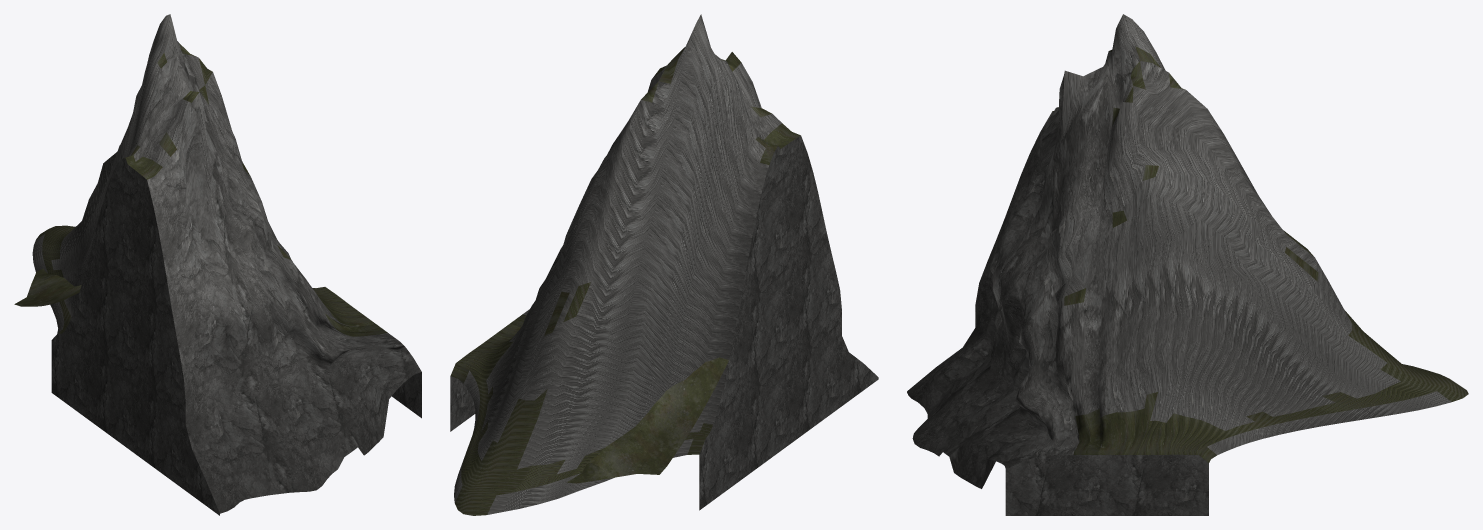
The model's file is seacliff_endcap_right_h5_b_v5_summer.glb.
The picture shows the model from 3 angles, left to right: view 1: azimuth 30°, elevation 25°; view 2: azimuth 150°, elevation 25°; view 3: azimuth 270°, elevation 25°; orthographic projection. The views are drawn at different scales.
Parts seen in each view (by area): view 1: seacliff_endcap_right_h5_b; view 2: seacliff_endcap_right_h5_b; view 3: seacliff_endcap_right_h5_b.
Part boxes in pixels (x1,y1,x2,y2): seacliff_endcap_right_h5_b: [14, 14, 421, 515]; seacliff_endcap_right_h5_b: [450, 14, 878, 515]; seacliff_endcap_right_h5_b: [907, 14, 1468, 515].
Bounding box in the file's own units: 6 × 9.36 × 11.63.
2 materials, 2 textured.
